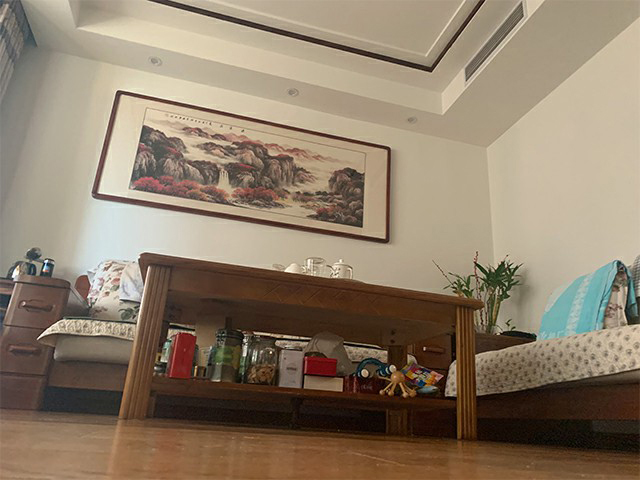cabinet: (1, 267, 66, 416)
sofa: (448, 259, 640, 437), (52, 253, 144, 412)
table: (123, 247, 490, 437)
